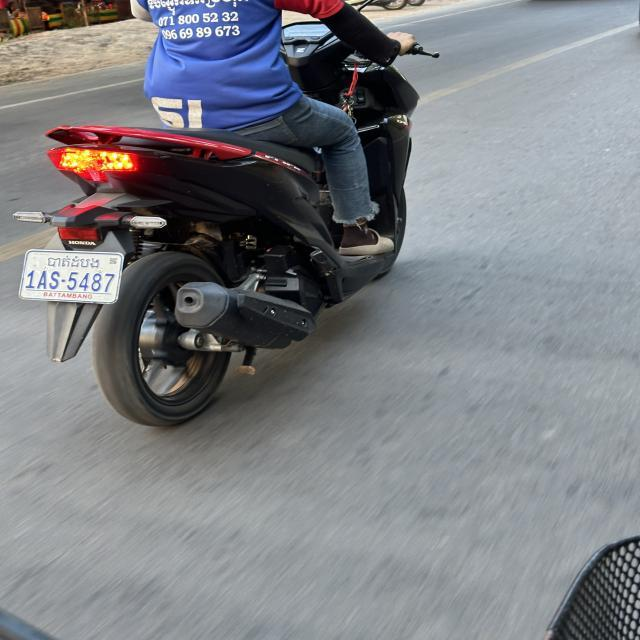Battambang: (46, 255, 100, 268)
